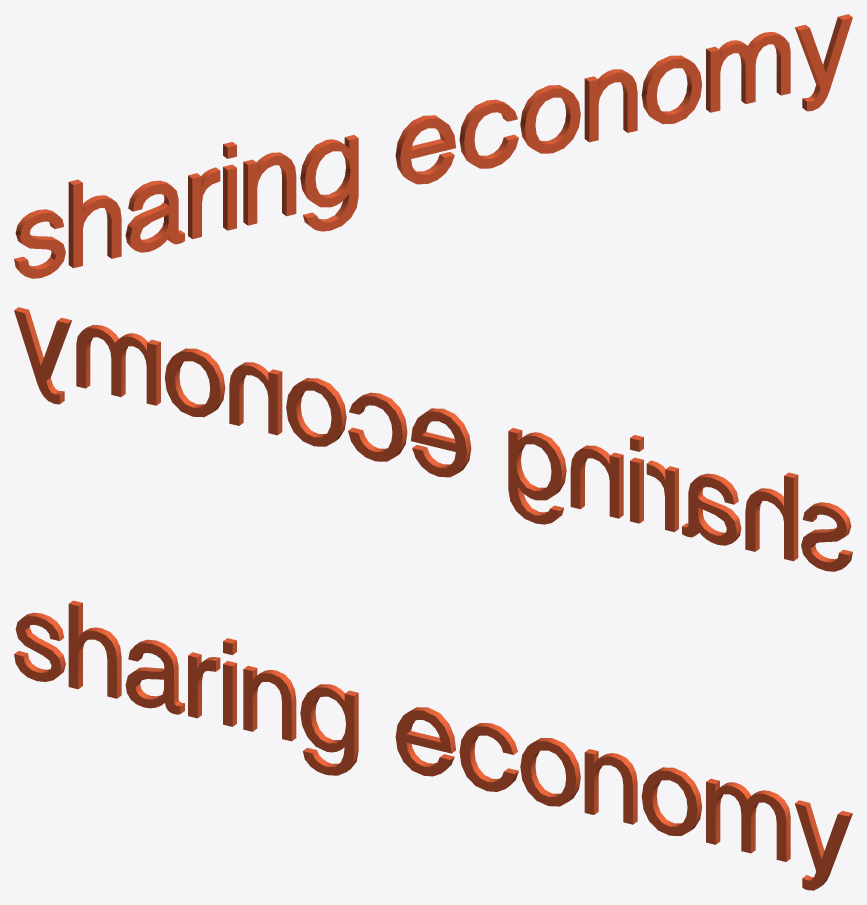
The model's file is sharing-economy.fbx.
3 views of the same model, one above another, from view 1: azimuth 30°, elevation 25°; view 2: azimuth 150°, elevation 25°; view 3: azimuth 330°, elevation 25° (orthographic).
Parts seen in each view (by area): view 1: Text; view 2: Text; view 3: Text.
Part boxes in pixels (<box>): Text: <box>14,14,852,278</box>; Text: <box>14,307,852,571</box>; Text: <box>14,600,852,890</box>.
Size of the model in its own units: 10.62 by 1.32 by 0.1.
